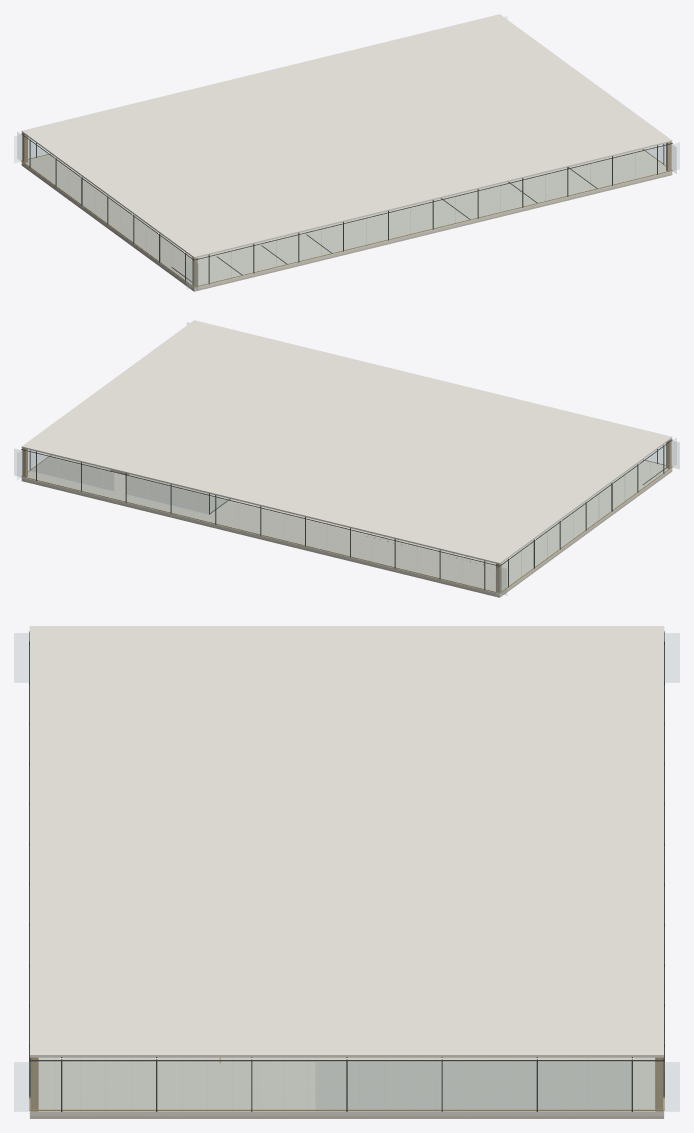
The model's file is architecture.glb.
The picture shows the model from 3 angles, top to bottom: view 1: azimuth 30°, elevation 25°; view 2: azimuth 150°, elevation 25°; view 3: azimuth 270°, elevation 25°; orthographic projection. The views are drawn at different scales.
Parts seen in each view (by area): view 1: Mesh_0.098, Porcelain_Tiled_Floor.001, Mesh_0.097, Mesh_2.117, Mesh_7.047, Mesh_7.101, Mesh_7.043, Mesh_7.087, Mesh_7.089, Mesh_7.091, Mesh_7.099, Mesh_7.093 (+12 smaller); view 2: Mesh_0.098, Porcelain_Tiled_Floor.001, Mesh_0.097, Mesh_7.119, Mesh_7.118, Mesh_2.117, Mesh_7.046, Mesh_7.100, Mesh_7.042, Mesh_7.086, Mesh_7.088, Mesh_7.090 (+14 smaller); view 3: Mesh_0.098, Porcelain_Tiled_Floor.001, Mesh_7.117, Mesh_7.115, Mesh_7.113, Mesh_7.111, Mesh_7.103, Mesh_7.105, Mesh_7.109, Mesh_7.107, Mesh_0.097, Mesh_2.117 (+4 smaller).
Boxes of the visible parts, x1,y1,x2,y2 form: Mesh_0.098: (21, 14, 672, 258); Porcelain_Tiled_Floor.001: (25, 149, 671, 287); Mesh_0.097: (21, 162, 672, 290); Mesh_2.117: (21, 164, 672, 291); Mesh_7.047: (232, 241, 276, 277); Mesh_7.101: (635, 142, 679, 178); Mesh_7.043: (187, 252, 231, 289); Mesh_7.087: (321, 219, 365, 255); Mesh_7.089: (366, 208, 410, 244); Mesh_7.091: (411, 197, 455, 233); Mesh_7.099: (590, 153, 634, 189); Mesh_7.093: (456, 186, 500, 222); Mesh_0.098: (21, 320, 672, 564); Porcelain_Tiled_Floor.001: (22, 455, 668, 593); Mesh_0.097: (21, 468, 672, 596); Mesh_7.119: (31, 450, 113, 490); Mesh_7.118: (127, 474, 208, 513); Mesh_2.117: (21, 470, 672, 597); Mesh_7.046: (417, 547, 461, 583); Mesh_7.100: (14, 448, 58, 484); Mesh_7.042: (462, 558, 506, 595); Mesh_7.086: (328, 525, 372, 561); Mesh_7.088: (283, 514, 327, 550); Mesh_7.090: (238, 503, 282, 539); Mesh_0.098: (30, 626, 663, 1057); Porcelain_Tiled_Floor.001: (30, 1057, 663, 1111); Mesh_7.117: (316, 1062, 630, 1111); Mesh_7.115: (14, 1062, 108, 1111); Mesh_7.113: (109, 1062, 203, 1111); Mesh_7.111: (204, 1062, 298, 1111); Mesh_7.103: (585, 1062, 679, 1111); Mesh_7.105: (490, 1062, 584, 1111); Mesh_7.109: (299, 1062, 394, 1111); Mesh_7.107: (395, 1062, 489, 1111); Mesh_0.097: (30, 1111, 663, 1115); Mesh_2.117: (30, 1116, 663, 1118).
Bounding box in the file's own units: 66 × 4.44 × 42.
20 materials, 14 textured.
